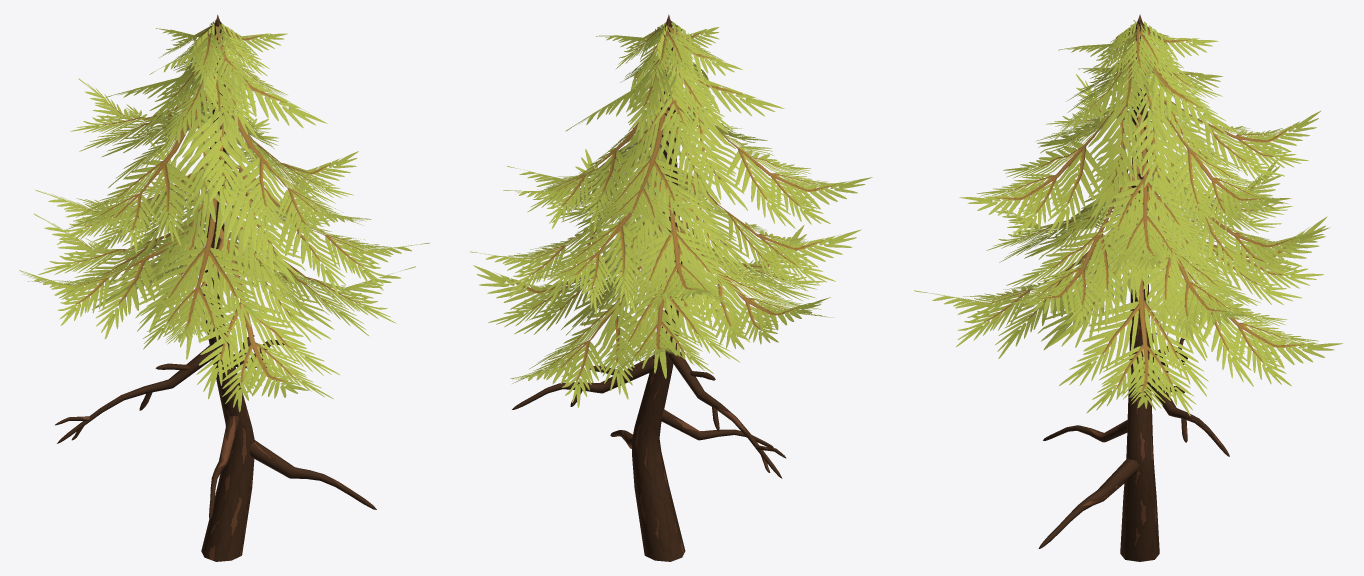
The model's file is pine_3.glb.
The picture shows the model from 3 angles, left to right: view 1: azimuth 30°, elevation 25°; view 2: azimuth 150°, elevation 25°; view 3: azimuth 270°, elevation 25°; orthographic projection.
Size of the model in its own units: 1.76 by 2.35 by 1.75.
2 materials, 2 textured.
